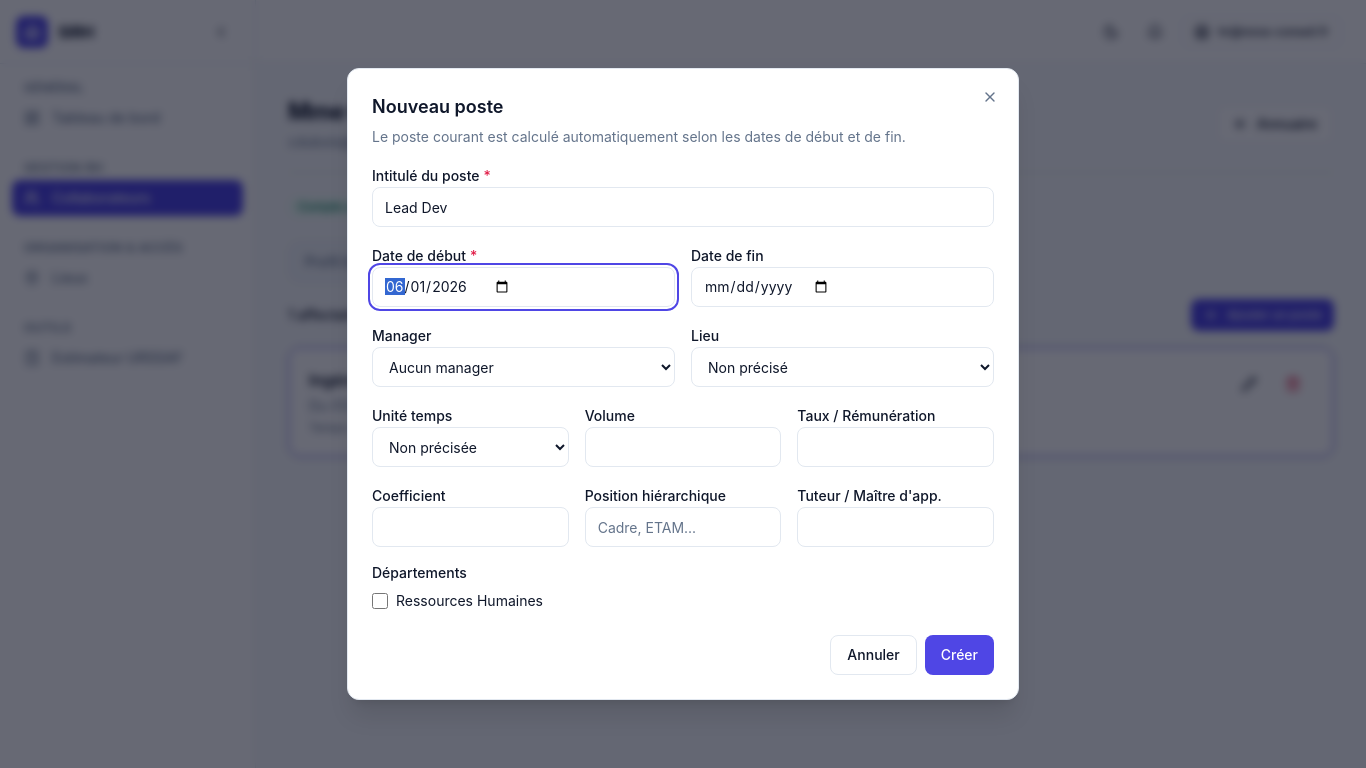
Test: Emergency Contacts & Positions (US-F016, US-F017) › displays current position badge, validates dates/self-manager, and shows 409 on linked delete
The image size is (1366, 768).
Earlier steps of the test are not shown.
Type "2026-01-01" into the date field labelled "Date de fin" at (842, 287), box [691,267,994,307]
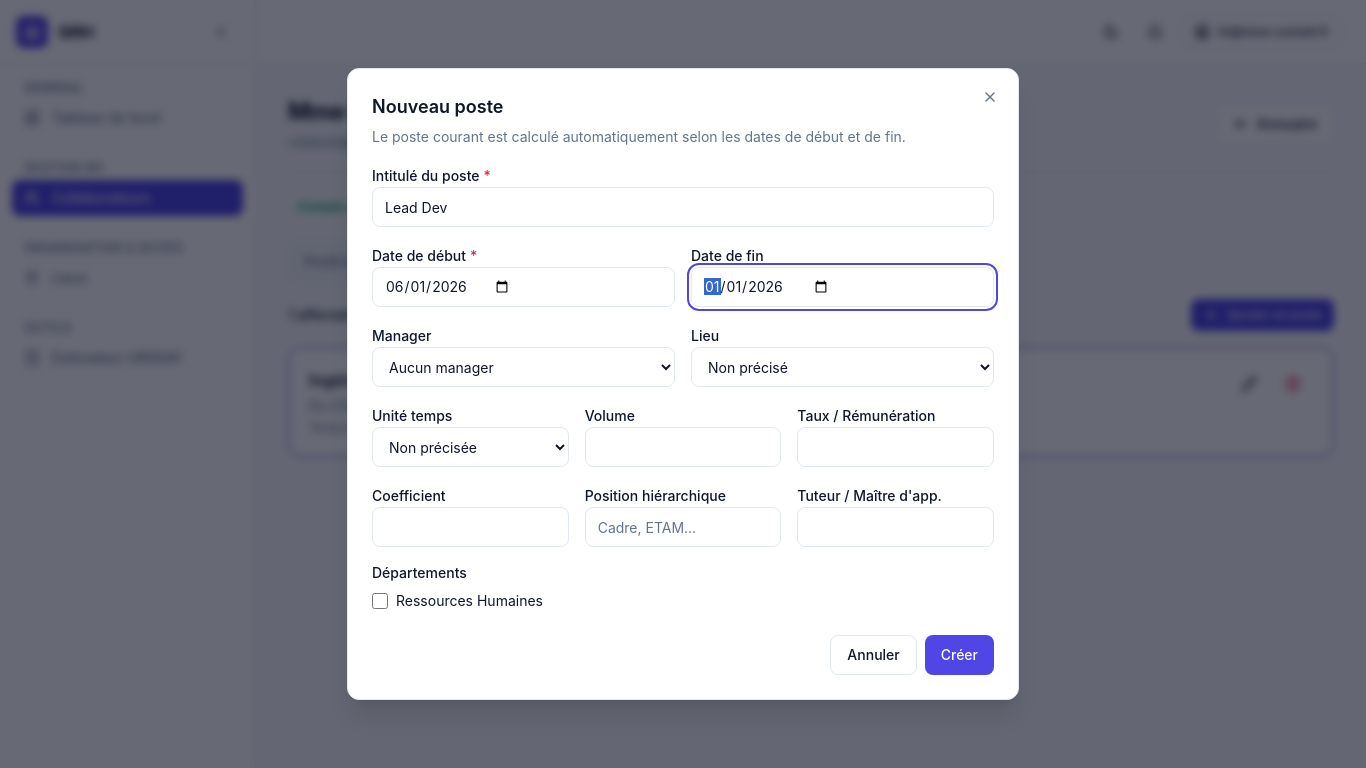
Select "Camille Dubois" in the dropdown labelled "Manager" at (524, 367), box [372,347,675,387]
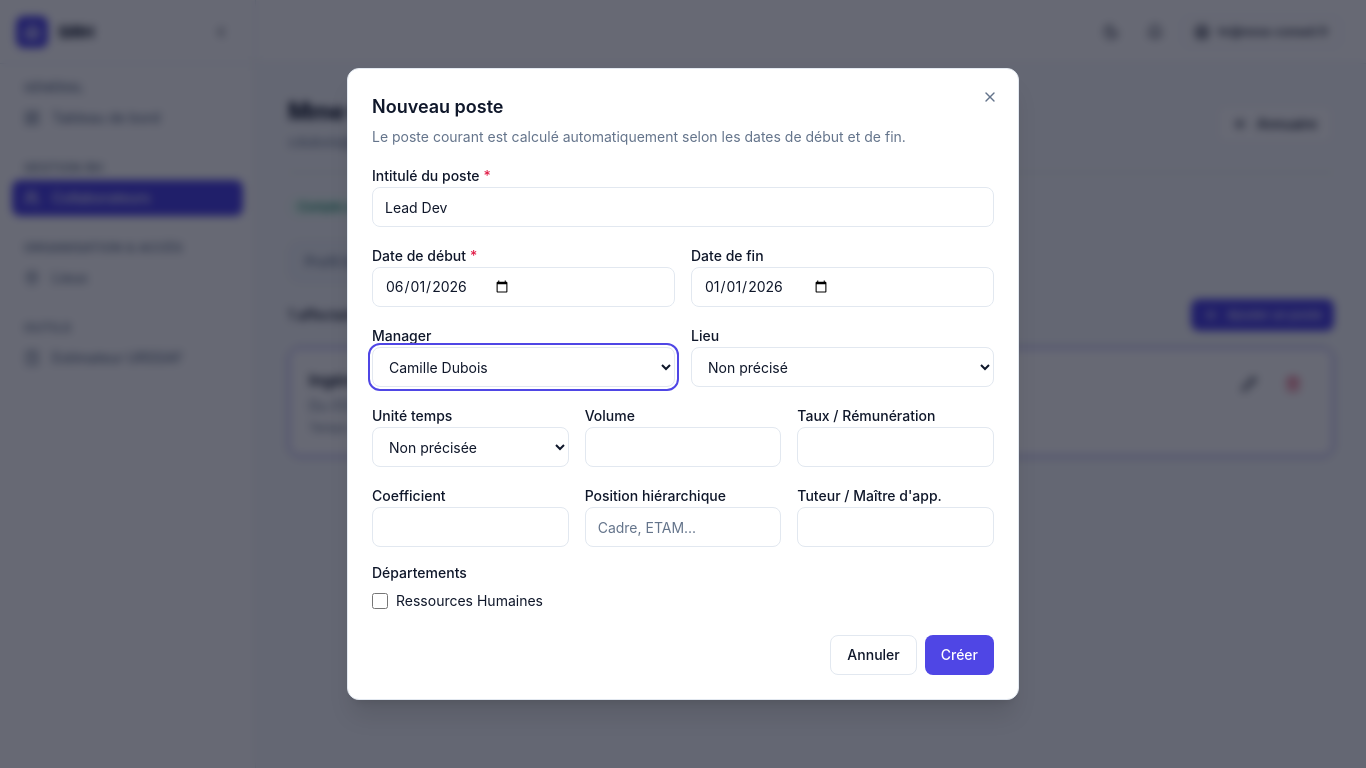
Click the button "Créer" at (959, 655), box [925,635,994,675]
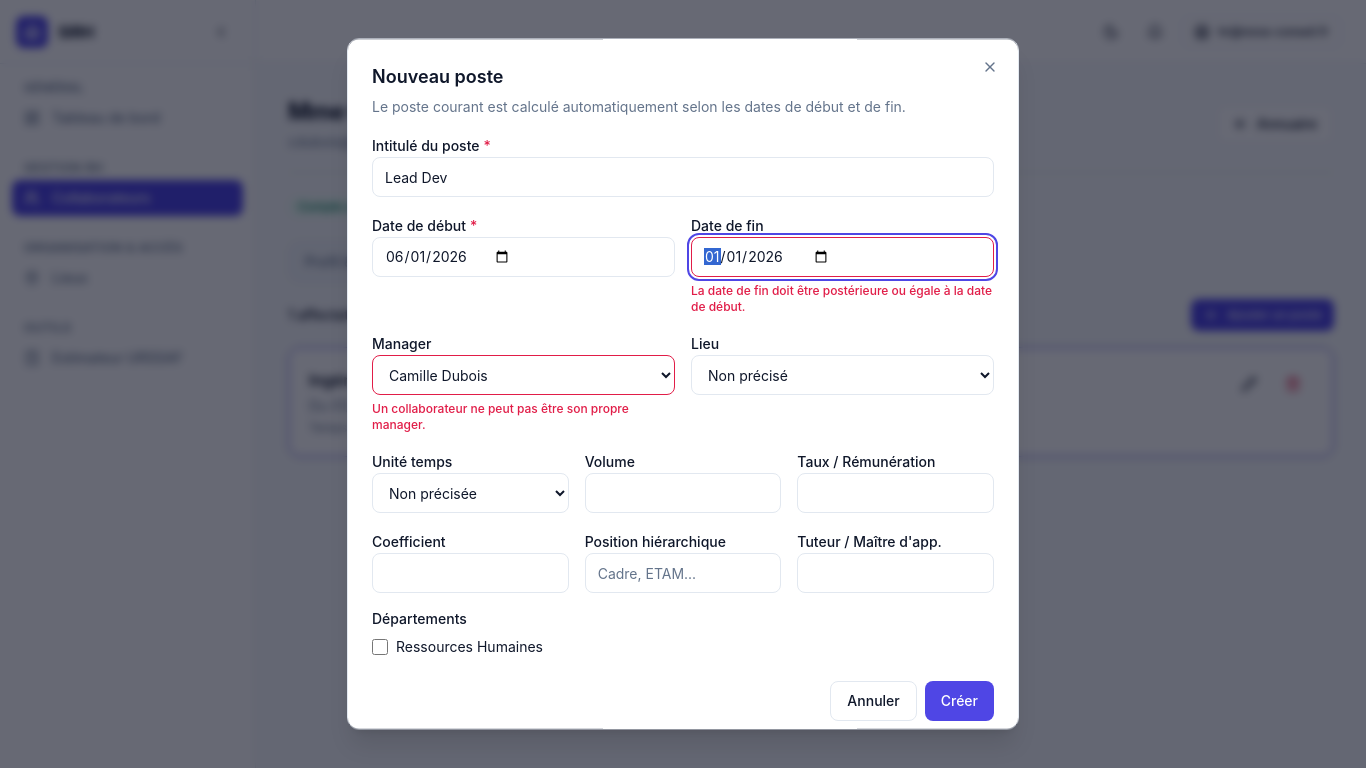
Expected: the text "La date de fin doit être postérieure ou égale à la date de début." is shown, [691,283,994,315]
Expected: the text "Un collaborateur ne peut pas être son propre manager." is shown, [372,401,629,432]
Click the button "Annuler" at (874, 701), box [830,681,917,721]
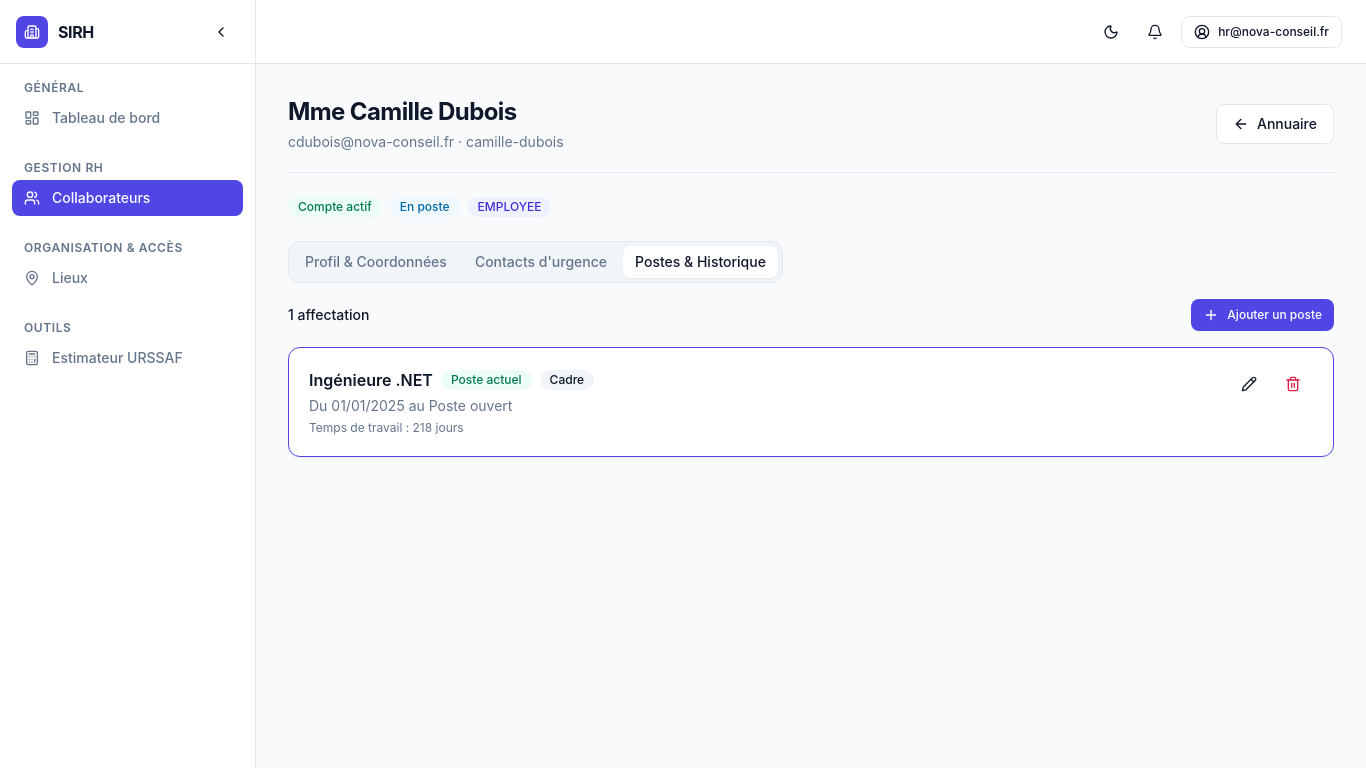
Click the button named "Supprimer le poste Ingénieure .NET" at (1293, 384), box [1273,368,1313,400]
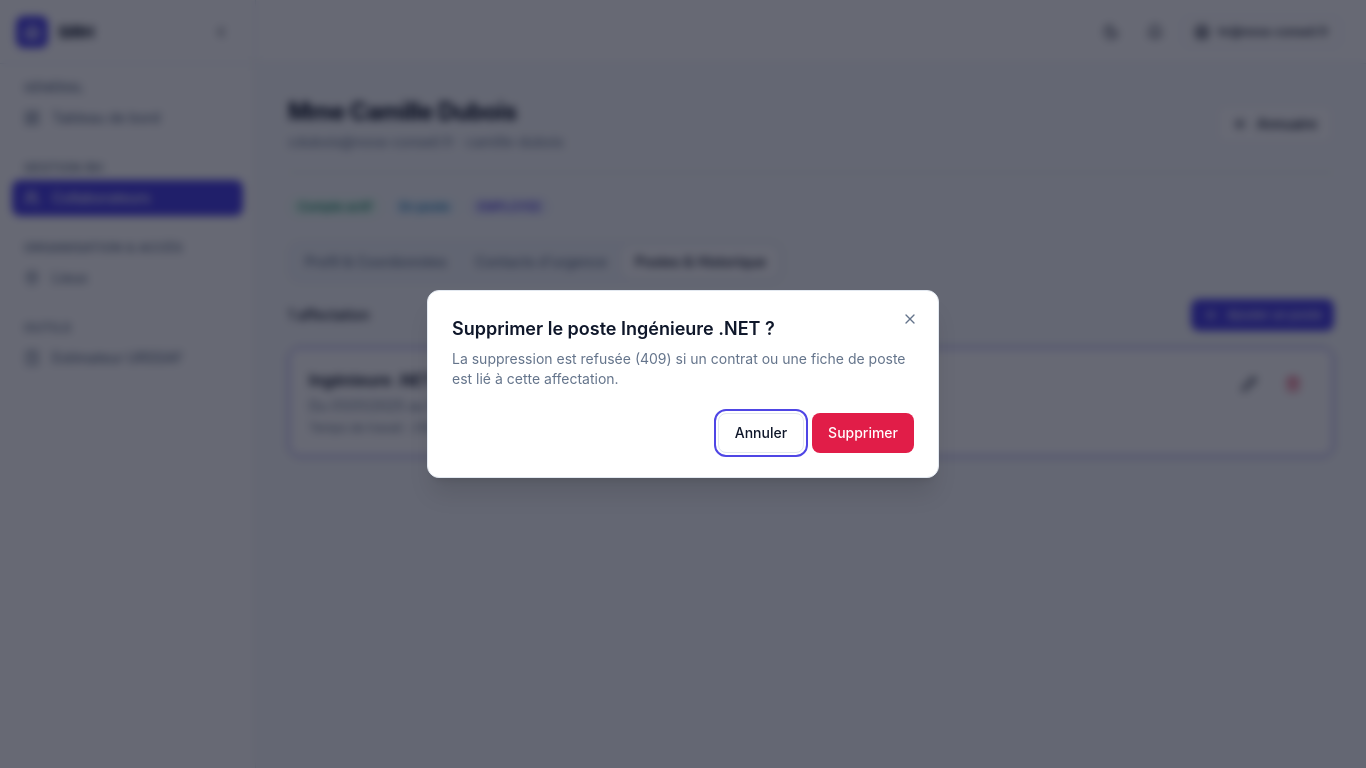
Click the button "Supprimer" at (863, 433), box [812,413,914,453]
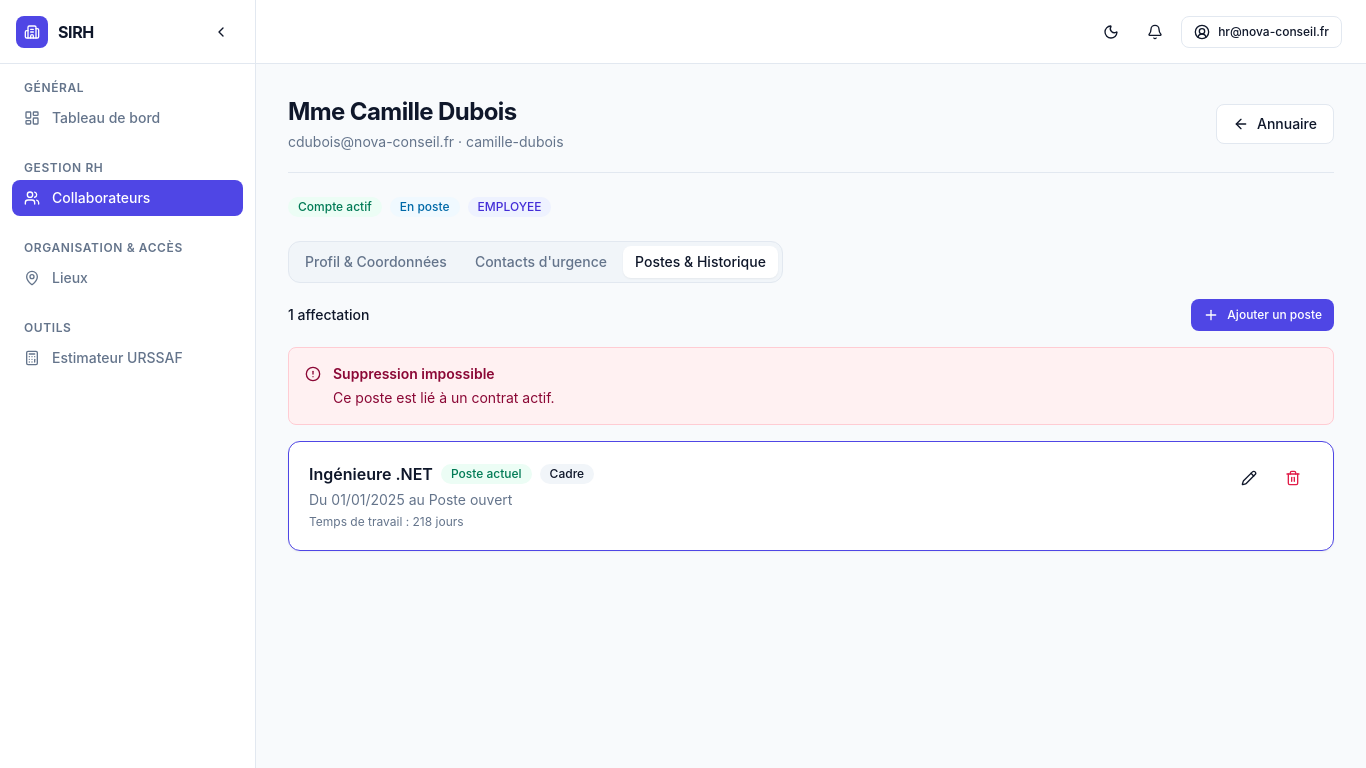
Expected: the text "Ce poste est lié à un contrat actif." is shown, [333,388,555,408]
